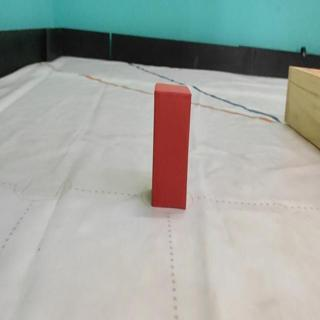redbox: (151, 83, 192, 210)
